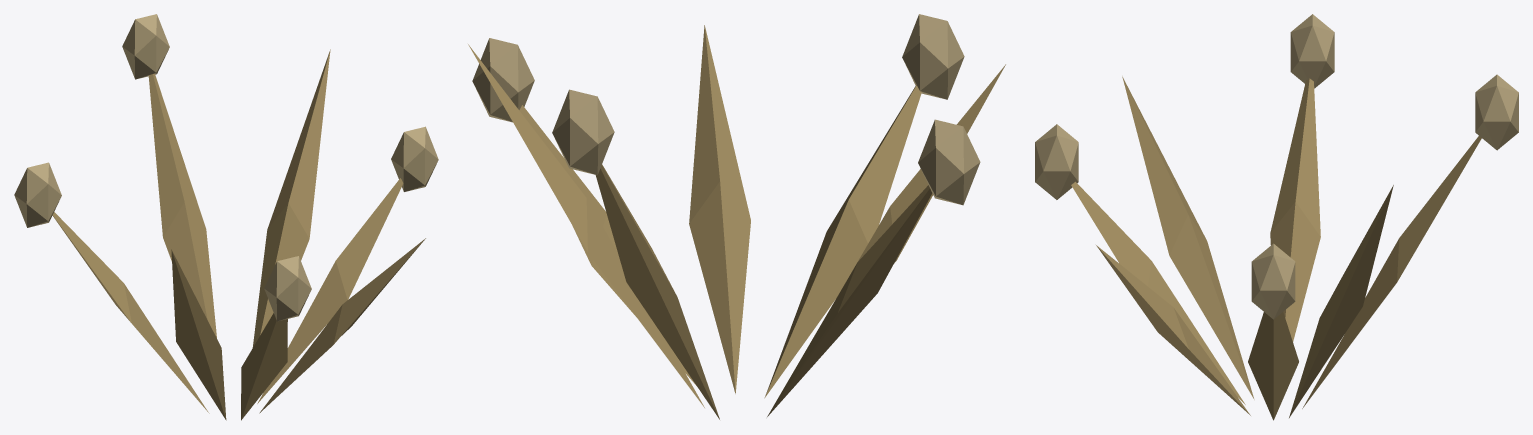
Rendered from plant-drygrass.glb.
3 views of the same model, side by side, from view 1: azimuth 30°, elevation 25°; view 2: azimuth 150°, elevation 25°; view 3: azimuth 270°, elevation 25° (orthographic). The views are drawn at different scales.
Parts seen in each view (by area): view 1: plant-drygrass; view 2: plant-drygrass; view 3: plant-drygrass.
Part boxes in pixels (bbox=[...]): plant-drygrass: bbox=[14, 14, 438, 420]; plant-drygrass: bbox=[468, 14, 1005, 419]; plant-drygrass: bbox=[1035, 14, 1518, 420].
Bounding box in the file's own units: 1.05 × 0.7966 × 1.04.
